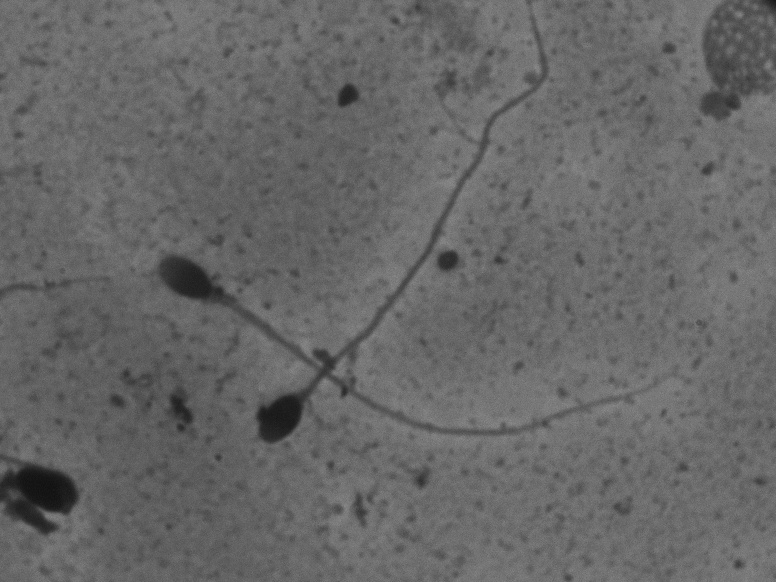Normal: (255, 8, 564, 447), (145, 241, 692, 450)
